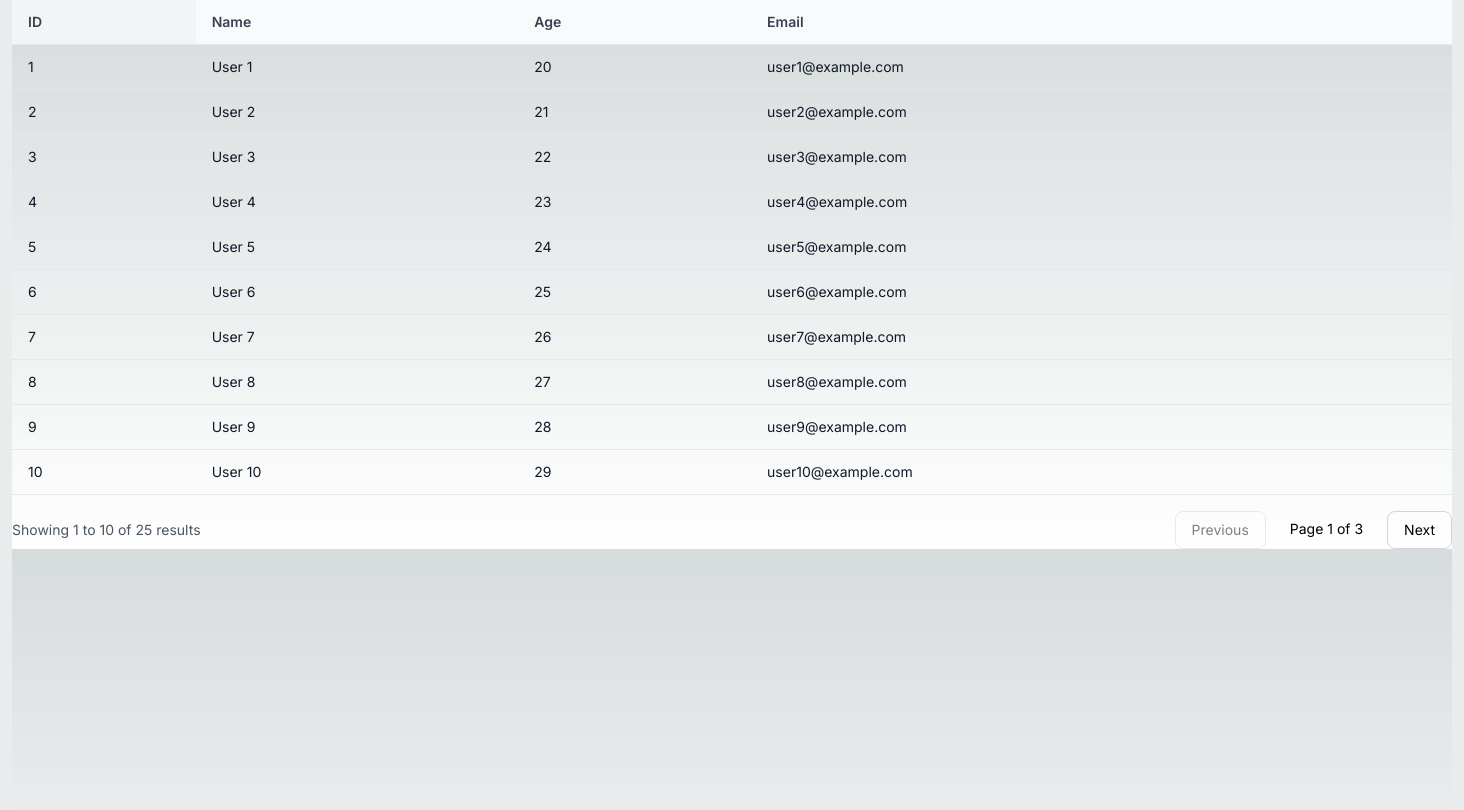
Scenario: DataTable › paginates data correctly
The image size is (1464, 810).
Check: the text "User 1" is shown, box [196,44,518,90]
Check: the text "User 11" is not shown
Click the button "Next" at (1420, 530), box [1387,511,1452,549]
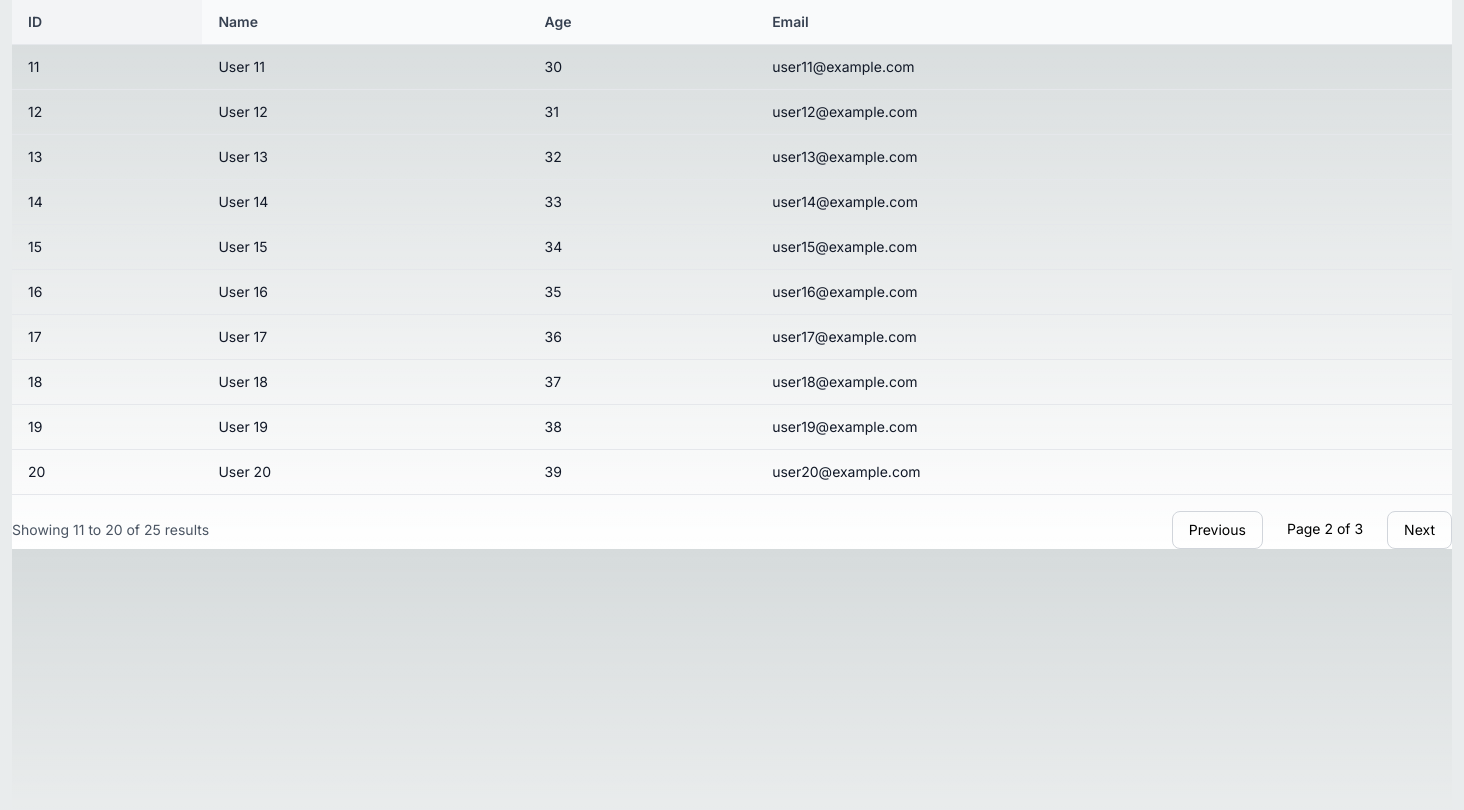
Check: the text "User 11" is shown, box [202,44,528,90]
